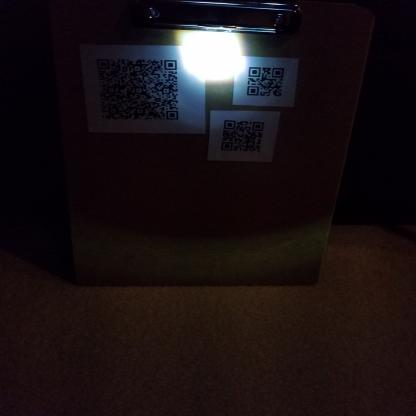qr: (93, 55, 183, 126), (217, 118, 269, 156), (242, 63, 288, 100)
